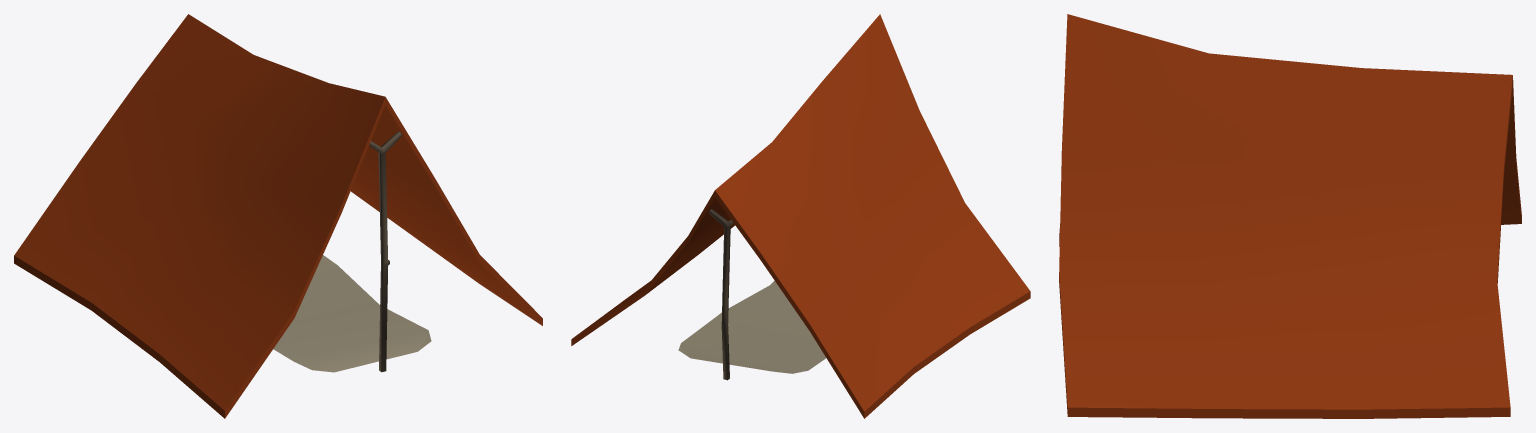
File: camp.glb
The picture shows the model from 3 angles, left to right: view 1: azimuth 30°, elevation 25°; view 2: azimuth 150°, elevation 25°; view 3: azimuth 270°, elevation 25°; orthographic projection. The views are drawn at different scales.
Parts seen in each view (by area): view 1: Camp; view 2: Camp; view 3: Camp.
Part boxes in pixels (x1,y1,x2,y2): Camp: (14,14,542,418); Camp: (571,14,1030,418); Camp: (1059,14,1521,418).
Size of the model in its own units: 2.03 by 1.62 by 2.08.
1 material, 1 textured.
